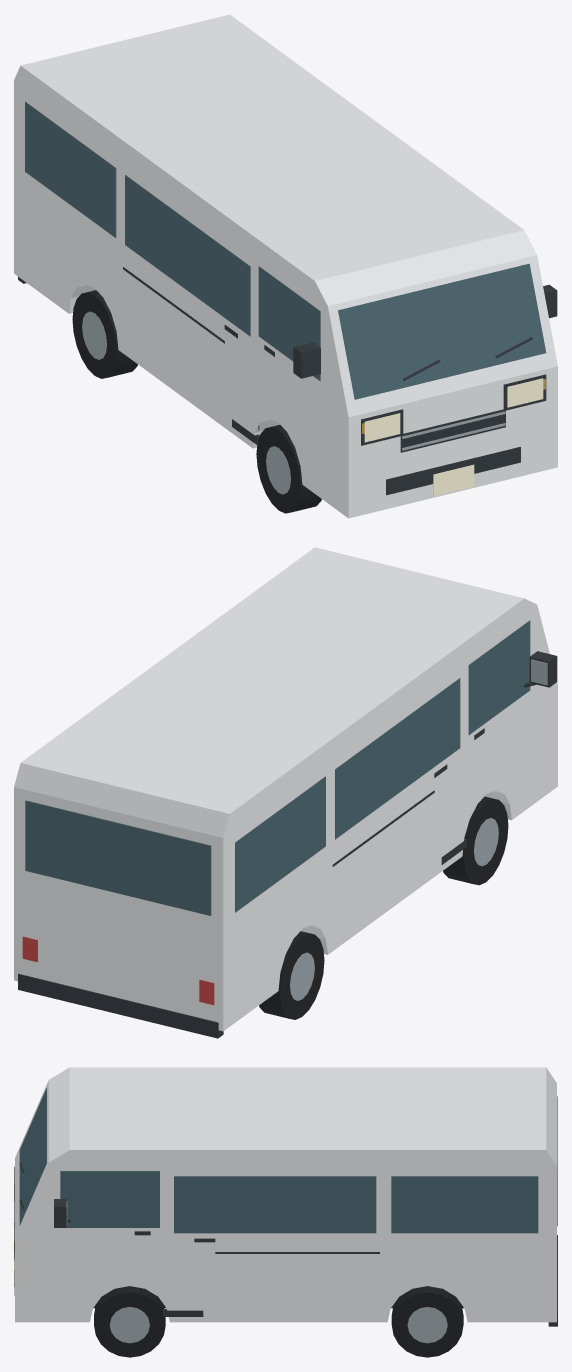
The model's file is hiace.glb.
3 renders of one model, top to bottom at view 1: azimuth 30°, elevation 25°; view 2: azimuth 150°, elevation 25°; view 3: azimuth 270°, elevation 25°, orthographic. The views are drawn at different scales.
Parts seen in each view (by area): view 1: van-body, side-window (×3), windshield, tire (×2), lower-intake, wheel-hub (×2), headlamp (×2), grille, number-plate, mirror-housing; view 2: van-body, side-window (×3), rear-window, tire (×2), rear-bumper, wheel-hub (×2); view 3: van-body, side-window (×3), tire (×2), wheel-hub (×2), windshield, mirror-housing.
Boxes of the visible parts, x1,y1,x2,y2 form: van-body: (14,14,557,518); side-window (×3): (25,101,320,381); windshield: (338,263,546,399); tire (×2): (72,290,321,513); lower-intake: (386,447,520,495); wheel-hub (×2): (82,311,290,494); headlamp (×2): (364,378,543,442); grille: (400,409,505,452); number-plate: (433,464,474,496); mirror-housing: (293,342,320,378); van-body: (14,547,557,1031); side-window (×3): (235,620,530,912); rear-window: (25,800,211,915); tire (×2): (259,796,508,1019); rear-bumper: (18,973,223,1038); wheel-hub (×2): (290,818,498,1000); van-body: (15,1067,556,1322); side-window (×3): (60,1171,538,1233); tire (×2): (94,1286,463,1357); wheel-hub (×2): (109,1307,447,1343); windshield: (19,1088,46,1225); mirror-housing: (54,1199,66,1227).
Bounding box in the file's own units: 2.06 × 1.98 × 4.69.
